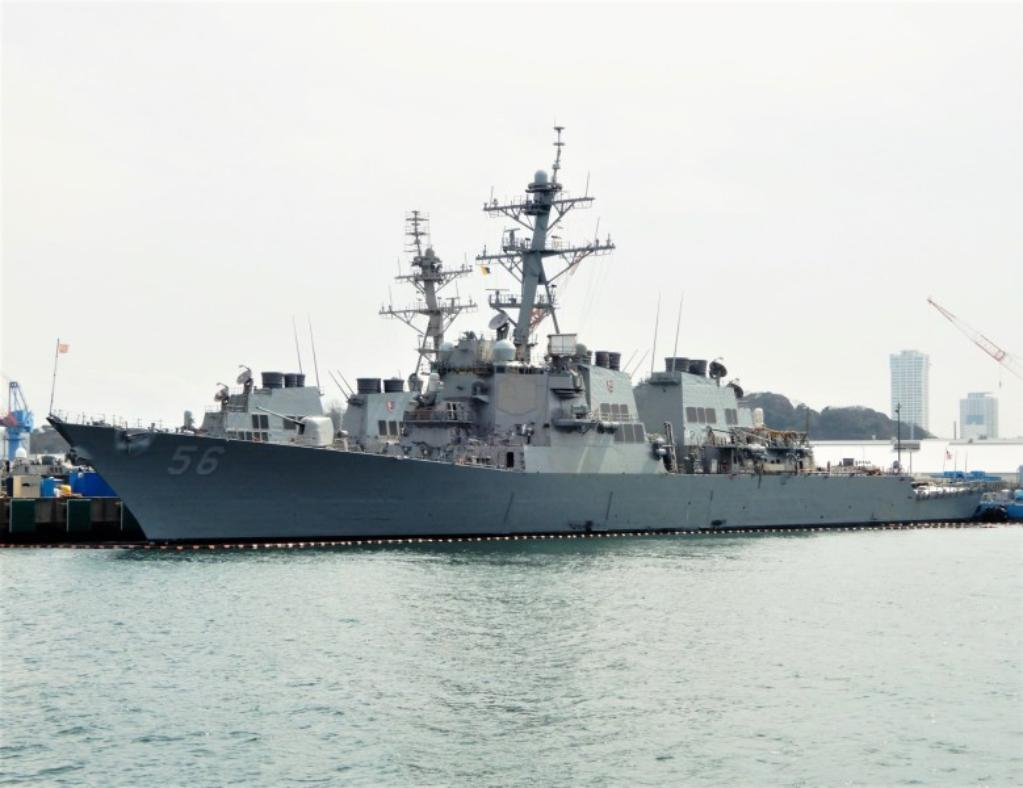Warship: (46, 120, 988, 553)
